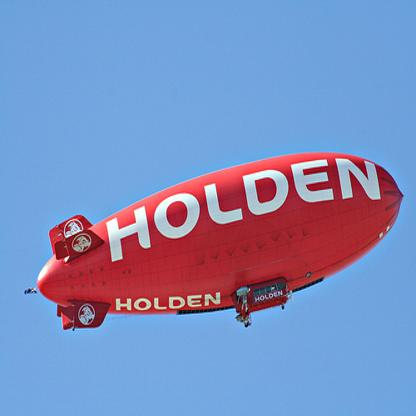Airship: (21, 150, 406, 339)
